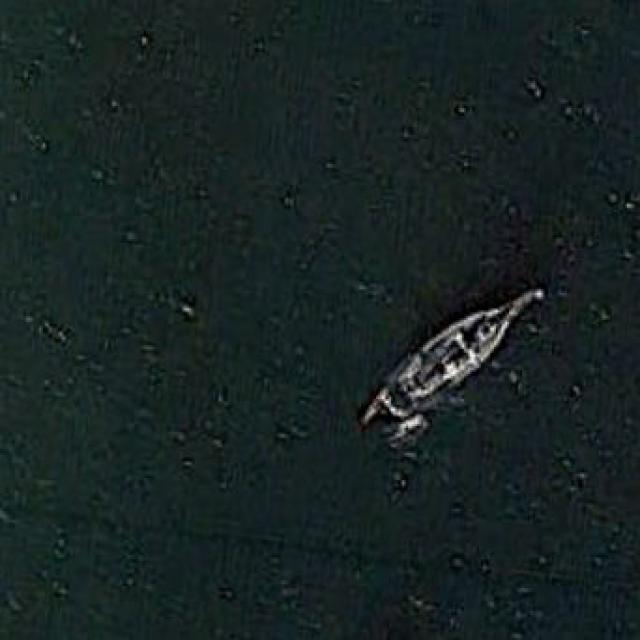boat: (370, 278, 546, 420)
